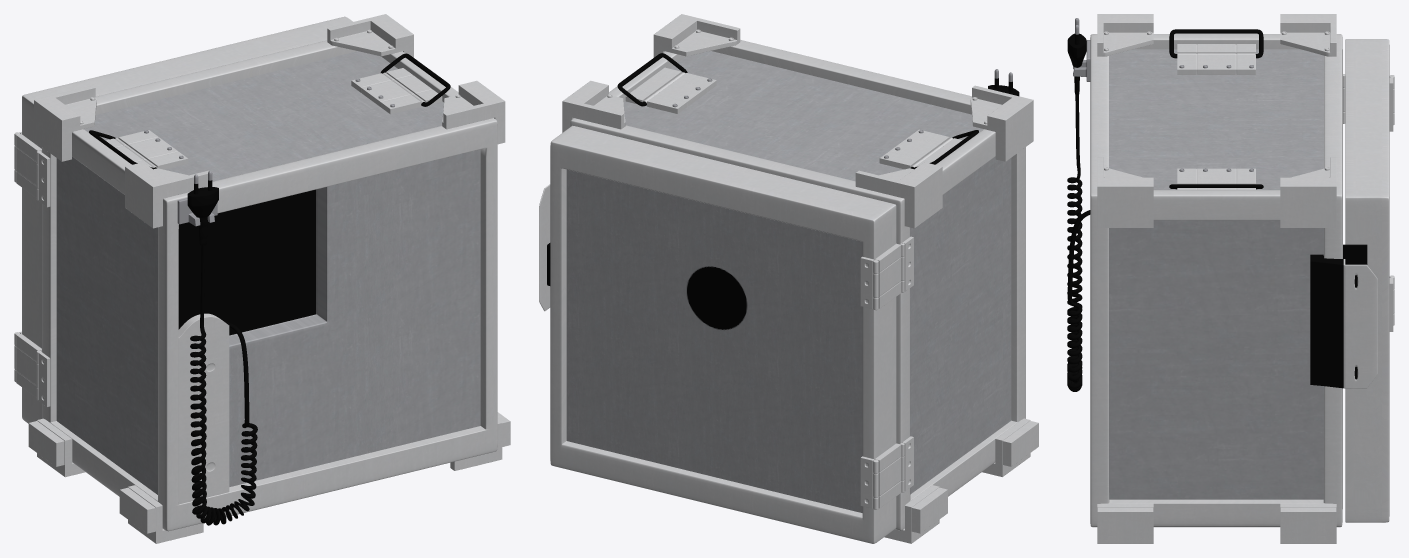
The model's file is box_gocart.dae.
3 renders of one model, left to right at view 1: azimuth 30°, elevation 25°; view 2: azimuth 150°, elevation 25°; view 3: azimuth 270°, elevation 25°, orthographic.
Visible parts, largest first — view 1: box; view 2: box; view 3: box.
Boxes of the visible parts, box(x1,y1,x2,y2) form: box: box(14, 14, 510, 543); box: box(539, 14, 1038, 543); box: box(1067, 14, 1394, 543).
Size of the model in its own units: 67.86 by 66.01 by 52.81.
Materials: 7 (5 with a texture image).
